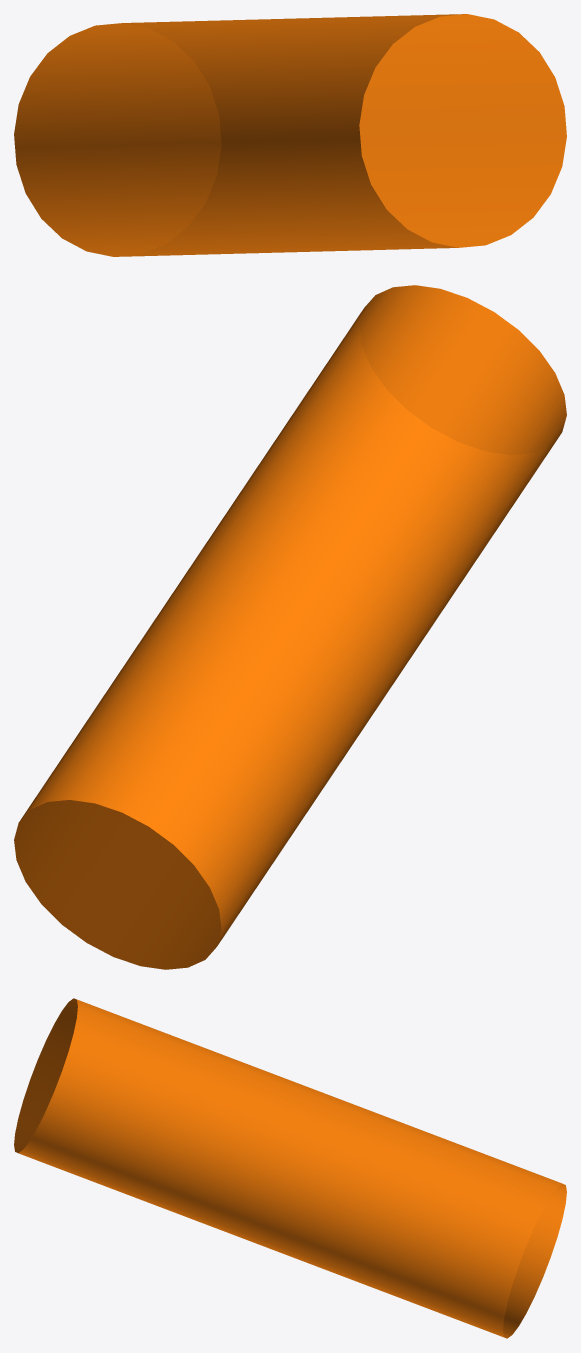
Rendered from original-2.obj.
The picture shows the model from 3 angles, top to bottom: view 1: azimuth 30°, elevation 25°; view 2: azimuth 150°, elevation 25°; view 3: azimuth 270°, elevation 25°; orthographic projection. The views are drawn at different scales.
Parts seen in each view (by area): view 1: mesh1/mesh1-geometry#mesh1-geometry; view 2: mesh1/mesh1-geometry#mesh1-geometry; view 3: mesh1/mesh1-geometry#mesh1-geometry.
Boxes of the visible parts, bbox=[...] form: mesh1/mesh1-geometry#mesh1-geometry: bbox=[14, 14, 566, 256]; mesh1/mesh1-geometry#mesh1-geometry: bbox=[14, 285, 566, 969]; mesh1/mesh1-geometry#mesh1-geometry: bbox=[14, 998, 566, 1338].
Size of the model in its own units: 0.0135 by 0.0292 by 0.0451.
